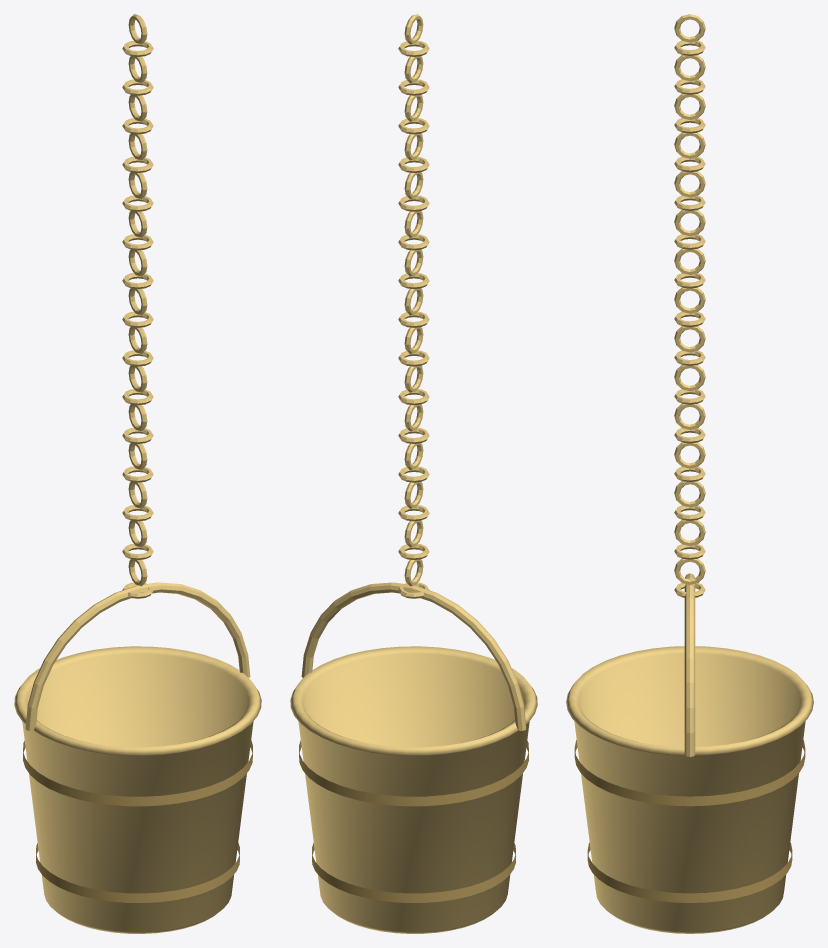
The model's file is giant_bucket.glb.
The picture shows the model from 3 angles, left to right: view 1: azimuth 30°, elevation 25°; view 2: azimuth 150°, elevation 25°; view 3: azimuth 270°, elevation 25°; orthographic projection.
Parts seen in each view (by area): view 1: bucket, chain, bucket_bands, handle; view 2: bucket, chain, bucket_bands, handle; view 3: bucket, chain, bucket_bands, handle.
Boxes of the visible parts, x1,y1,x2,y2 form: bucket: [14, 646, 261, 933]; chain: [122, 14, 153, 598]; bucket_bands: [23, 740, 252, 902]; handle: [25, 582, 250, 730]; bucket: [290, 646, 537, 933]; chain: [398, 14, 429, 598]; bucket_bands: [299, 740, 528, 902]; handle: [301, 582, 526, 730]; bucket: [566, 646, 813, 933]; chain: [674, 14, 705, 597]; bucket_bands: [574, 740, 805, 902]; handle: [684, 573, 695, 756].
Size of the model in its own units: 1.21 by 4.55 by 1.16.
